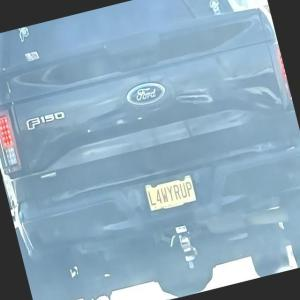Plate: (143, 173, 198, 213)
